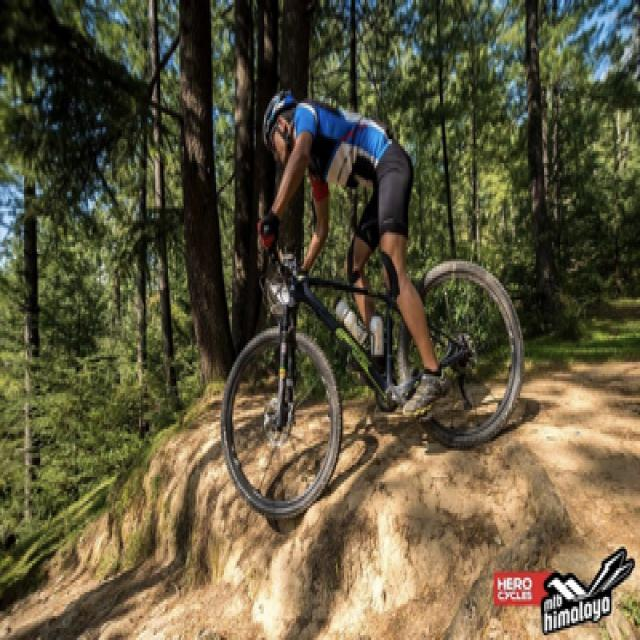helmet: (250, 80, 294, 142)
